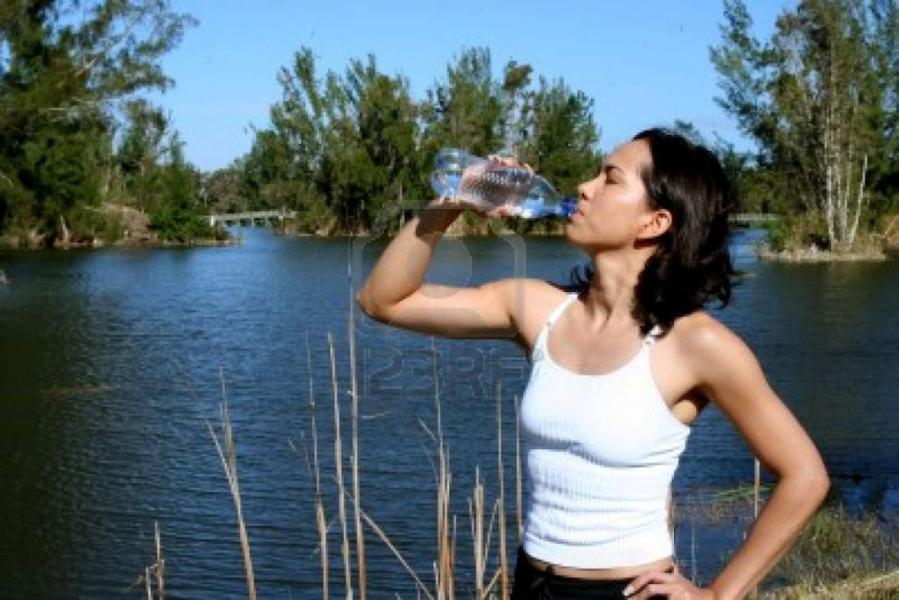person: (356, 128, 834, 600)
